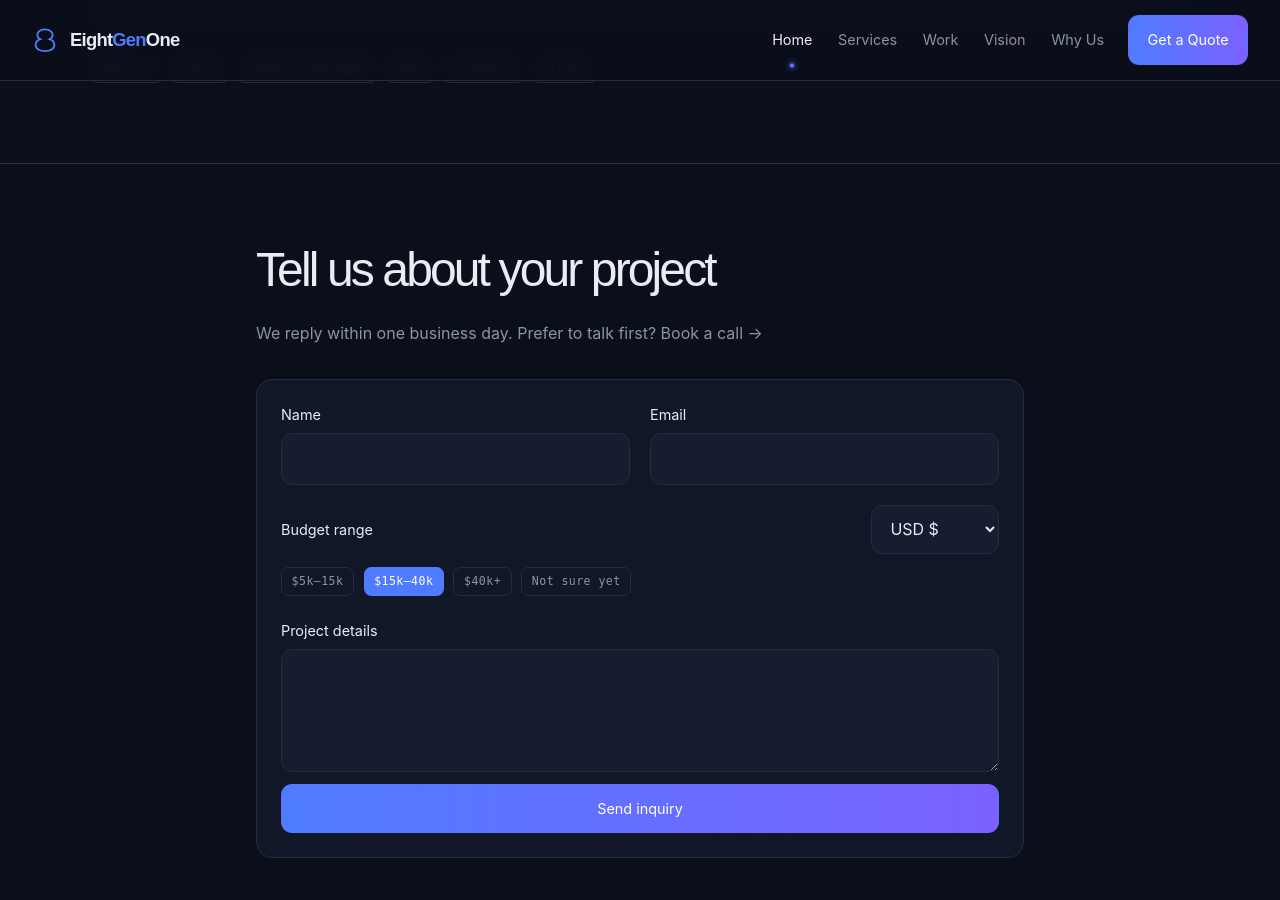
EightGen1 landing page › shows an error when the inquiry cannot be delivered
(page scrolled)
In the field labelled "Name": (456, 459) [281,433,630,485], type "Ava Taylor"
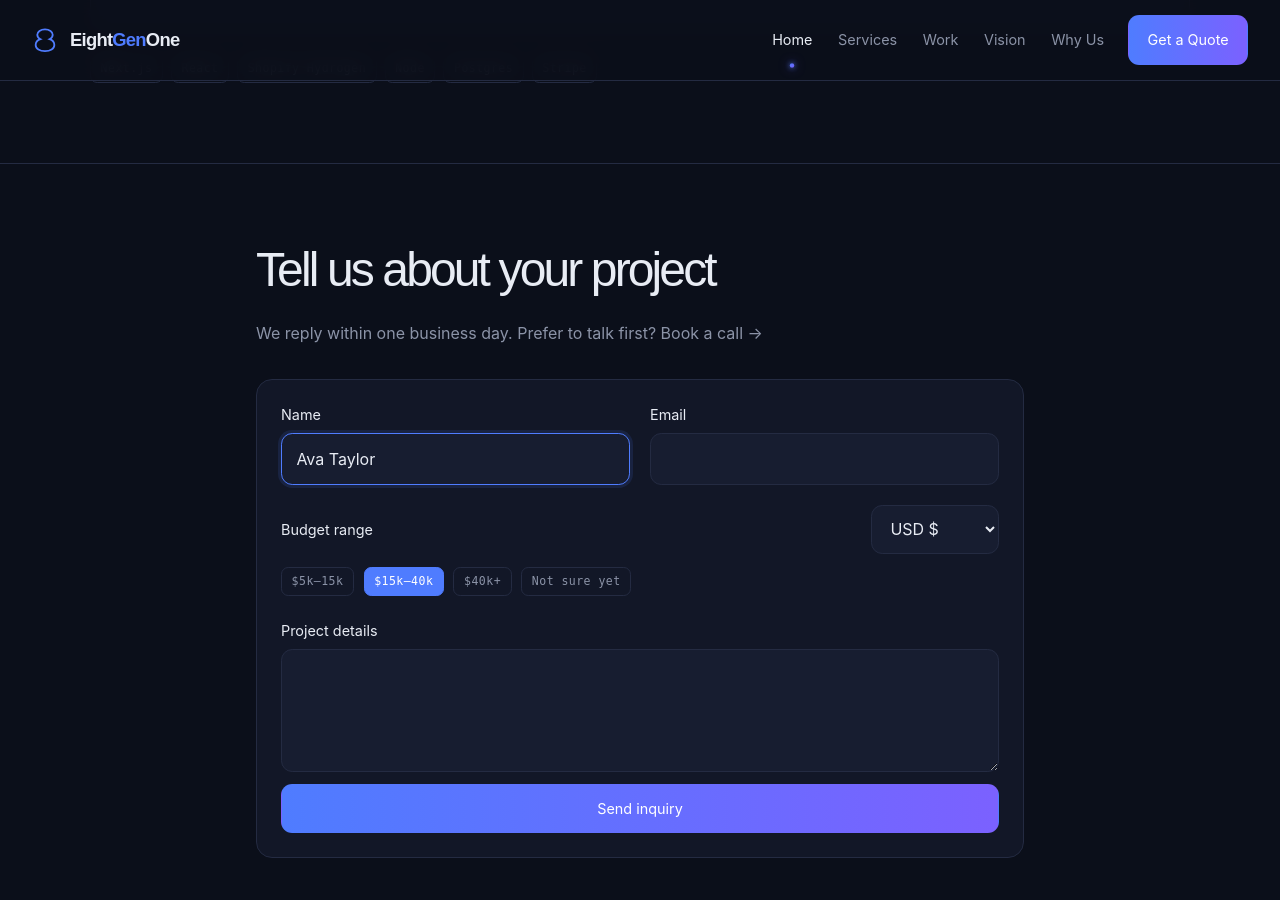
In the field labelled "Email": (824, 459) [650,433,999,485], type "ava@example.com"
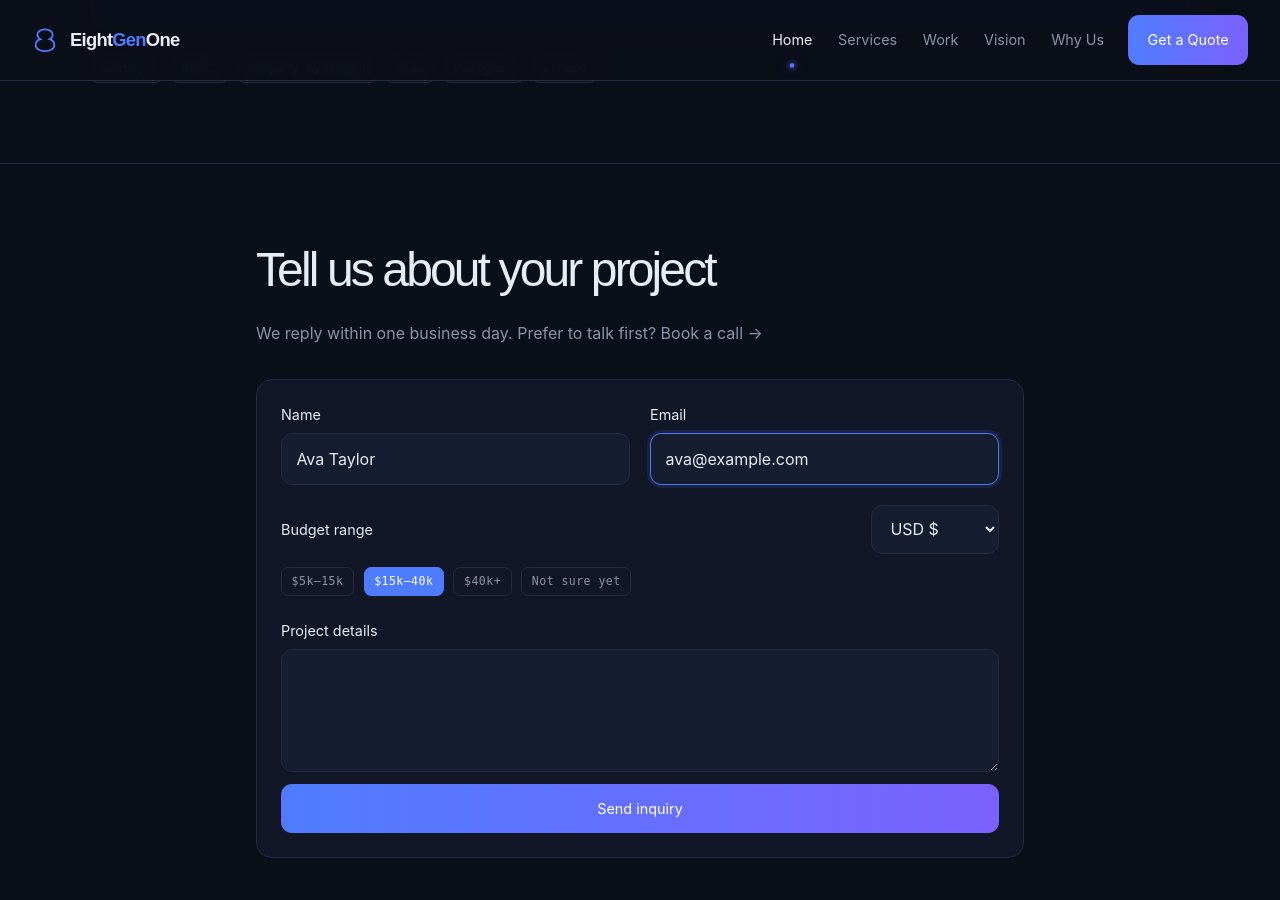
In the text box labelled "Project details": (640, 710) [281,648,999,772], type "Need a storefront for a major product launch with online checkout and branded design."
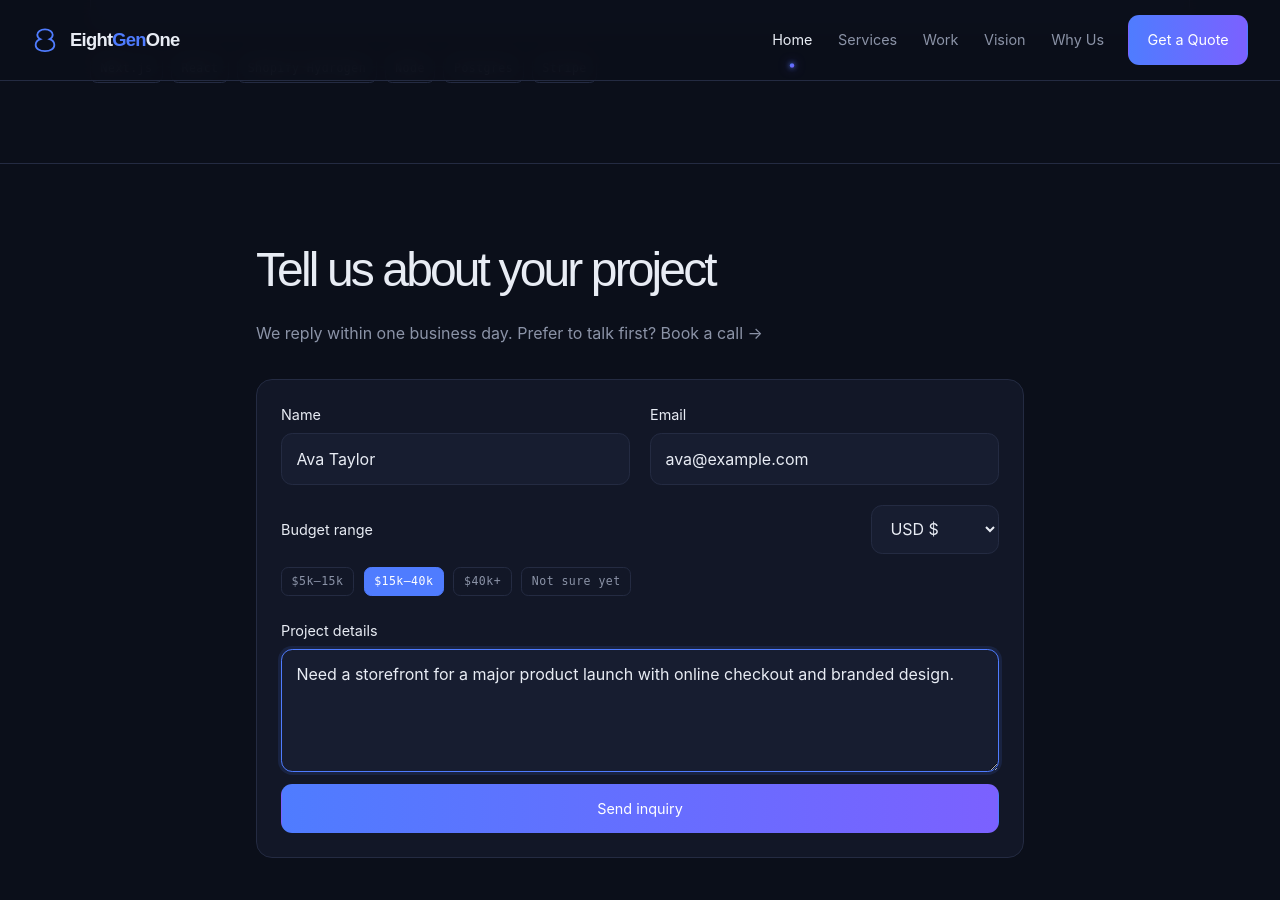
Click the button "Send inquiry": (640, 809) [281,784,999,833]
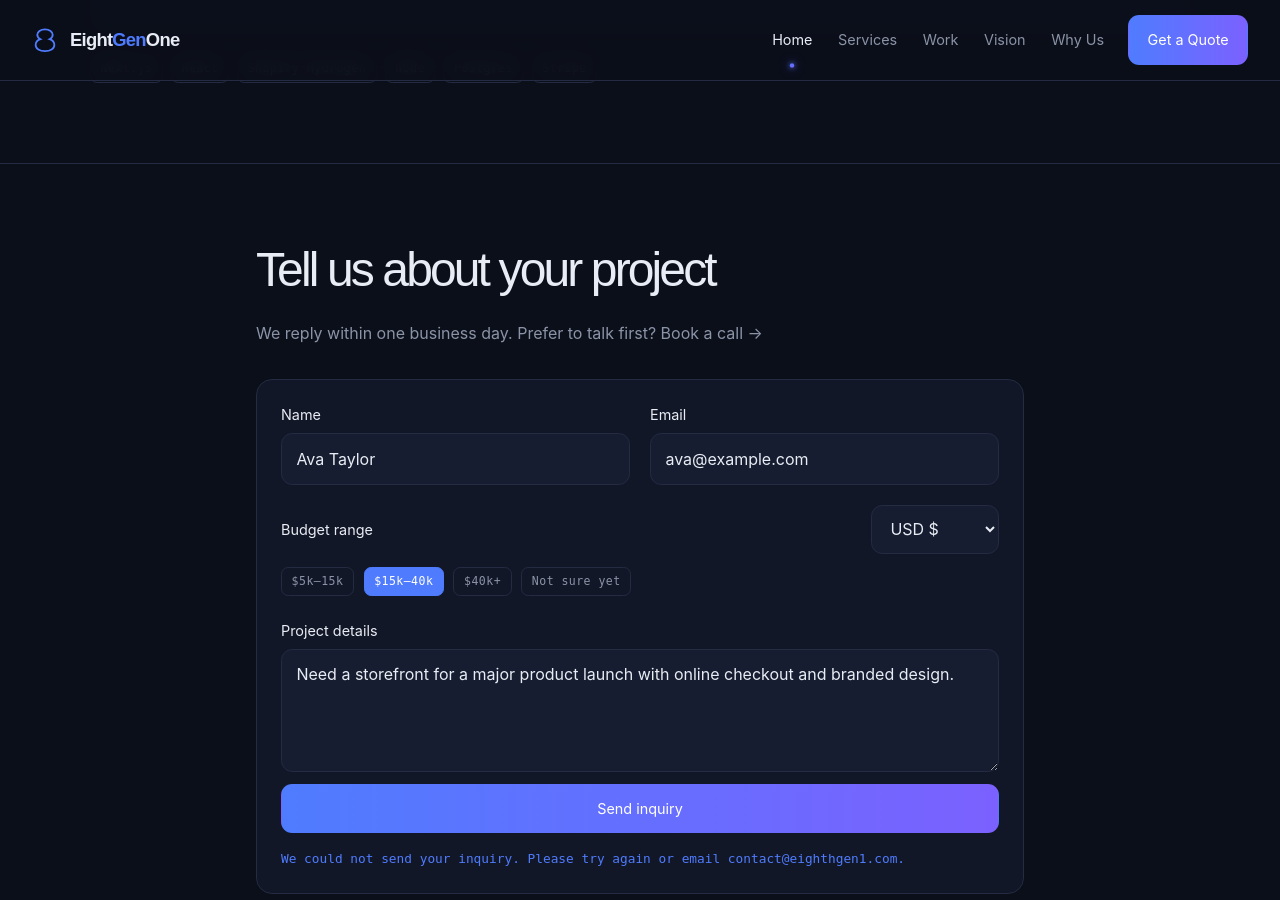
Check: the message shows "could not send your inquiry", box [281,851,905,866]
